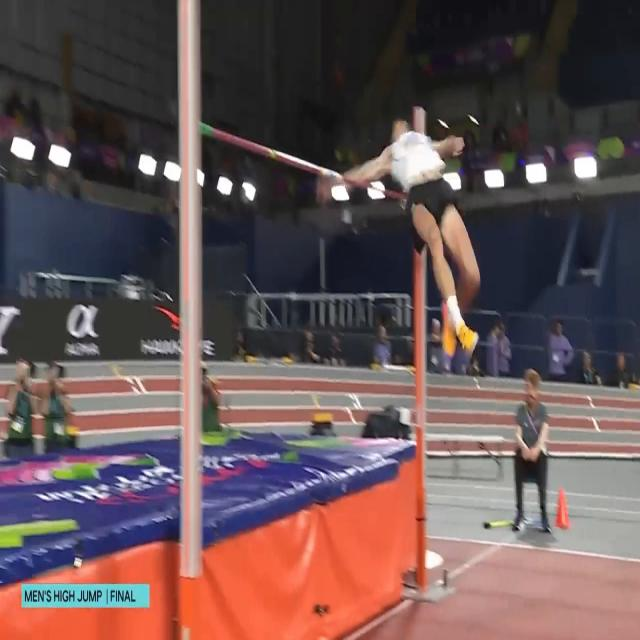jump: (318, 118, 480, 356)
